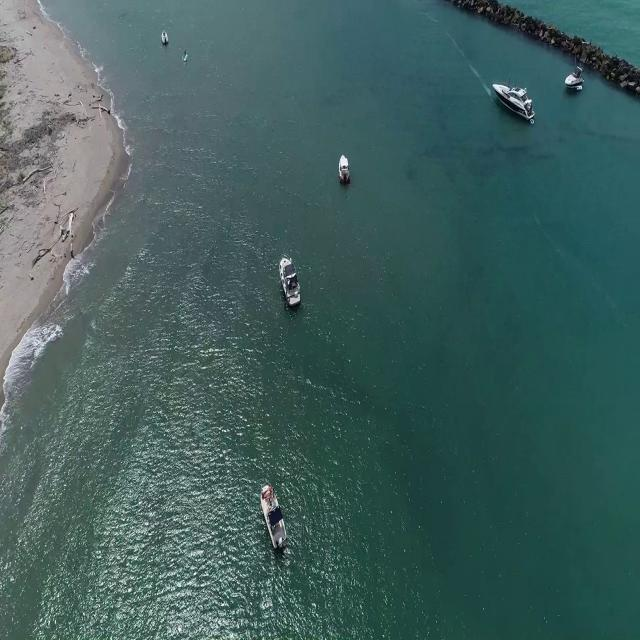boat: (493, 82, 538, 127), (261, 482, 285, 550), (280, 250, 302, 308), (564, 67, 589, 93), (339, 150, 354, 186), (161, 28, 170, 44)
person: (183, 43, 189, 55)
surfboard: (183, 53, 190, 66)
wood: (34, 213, 76, 258)
